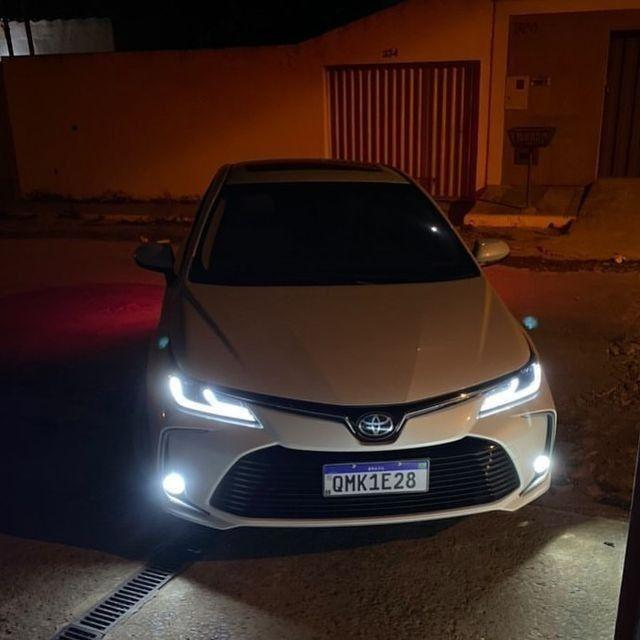Placas: (321, 459, 429, 497)
